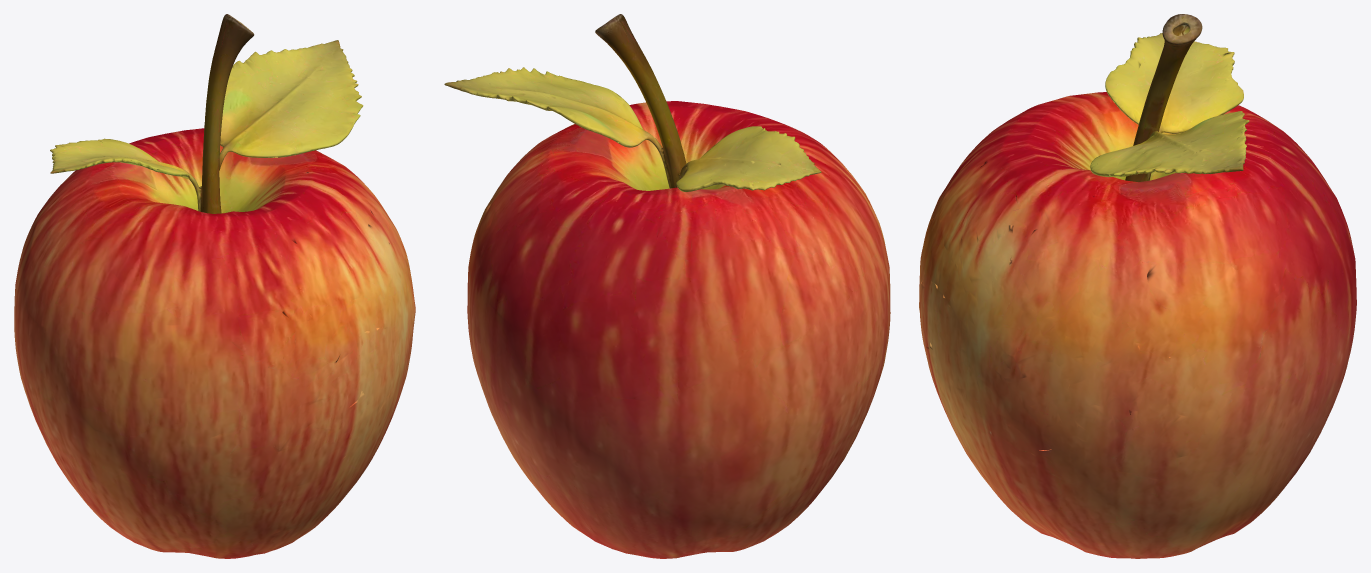
Rendered from apple-round.glb.
3 views of the same model, side by side, from view 1: azimuth 30°, elevation 25°; view 2: azimuth 150°, elevation 25°; view 3: azimuth 270°, elevation 25° (orthographic). The views are drawn at different scales.
Visible parts, largest first — view 1: Mesh_0; view 2: Mesh_0; view 3: Mesh_0.
Part boxes in pixels (<box>): Mesh_0: <box>14,14,415,558</box>; Mesh_0: <box>444,14,890,558</box>; Mesh_0: <box>919,14,1356,558</box>.
Size of the model in its own units: 0.0601 by 0.08 by 0.0601.
Materials: 1 (1 with a texture image).
